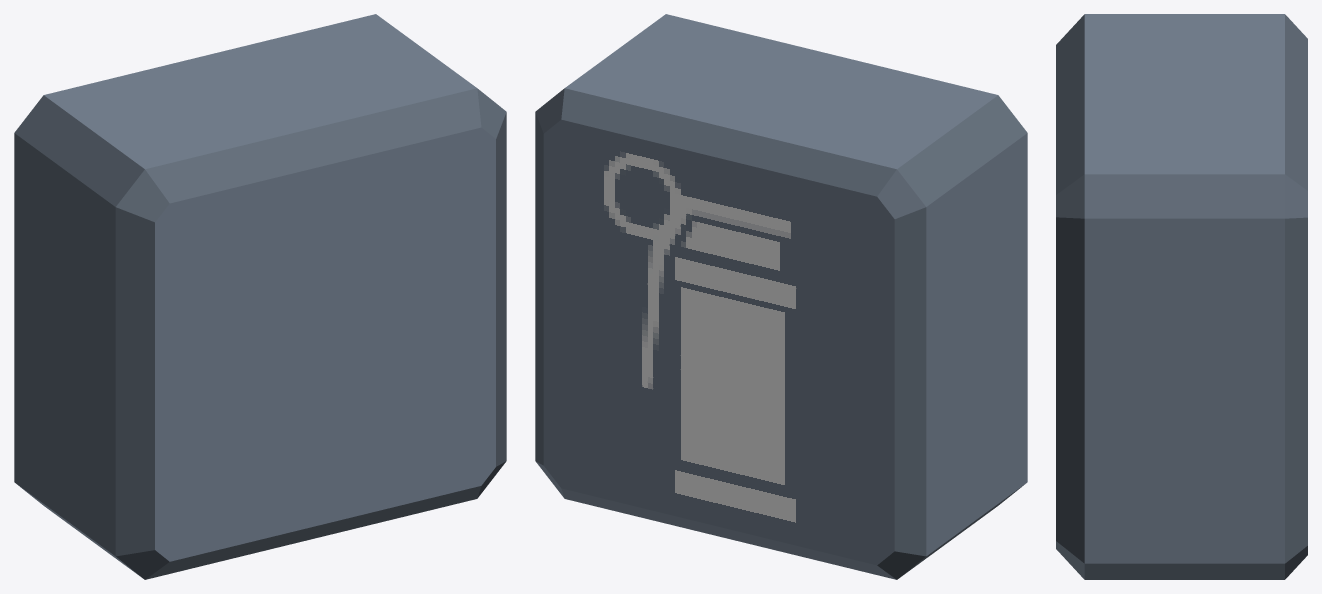
File: BagGridModel.fbx
The picture shows the model from 3 angles, left to right: view 1: azimuth 30°, elevation 25°; view 2: azimuth 150°, elevation 25°; view 3: azimuth 270°, elevation 25°; orthographic projection.
Visible parts, largest first — view 1: bagGridModle; view 2: bagGridModle; view 3: bagGridModle.
Part boxes in pixels (left/top/right/bottom): bagGridModle: left=14, top=14, right=506, bottom=579; bagGridModle: left=535, top=14, right=1027, bottom=579; bagGridModle: left=1056, top=14, right=1307, bottom=579.
Bounding box in the file's own units: 0.091 × 0.0913 × 0.0514.
